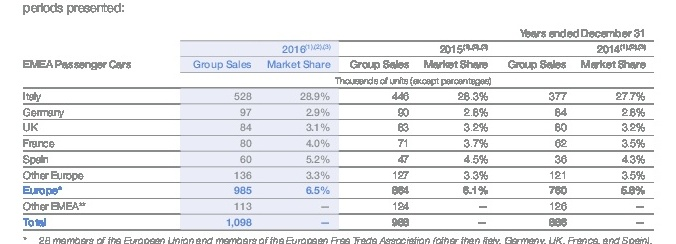table: (0, 0, 676, 244)
